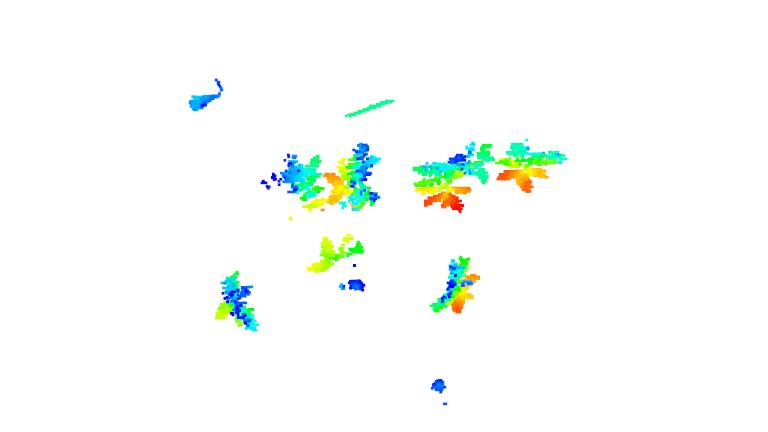chickpea: (411, 137, 496, 214), (493, 137, 569, 193), (326, 141, 383, 212), (258, 154, 326, 213), (211, 270, 264, 334), (428, 256, 479, 315), (304, 231, 368, 274)
